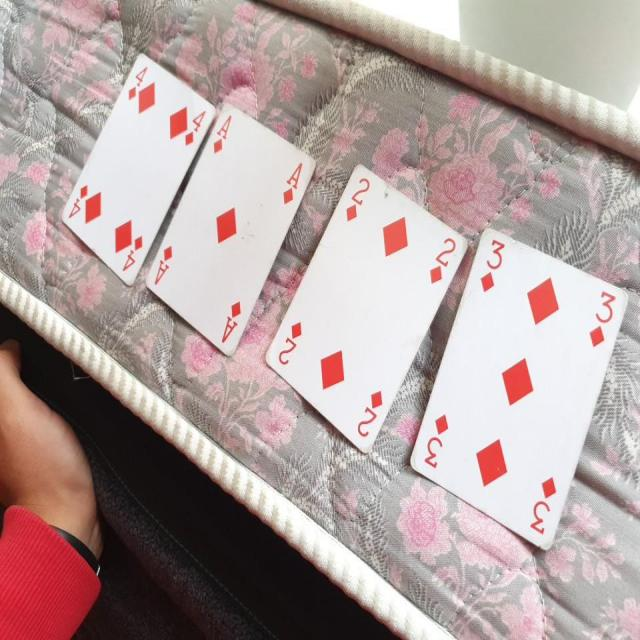2 Diamonds: (262, 162, 469, 463)
3 Diamonds: (409, 220, 632, 561)
4 Diamonds: (60, 49, 215, 289)
A Diamonds: (142, 103, 316, 368)
